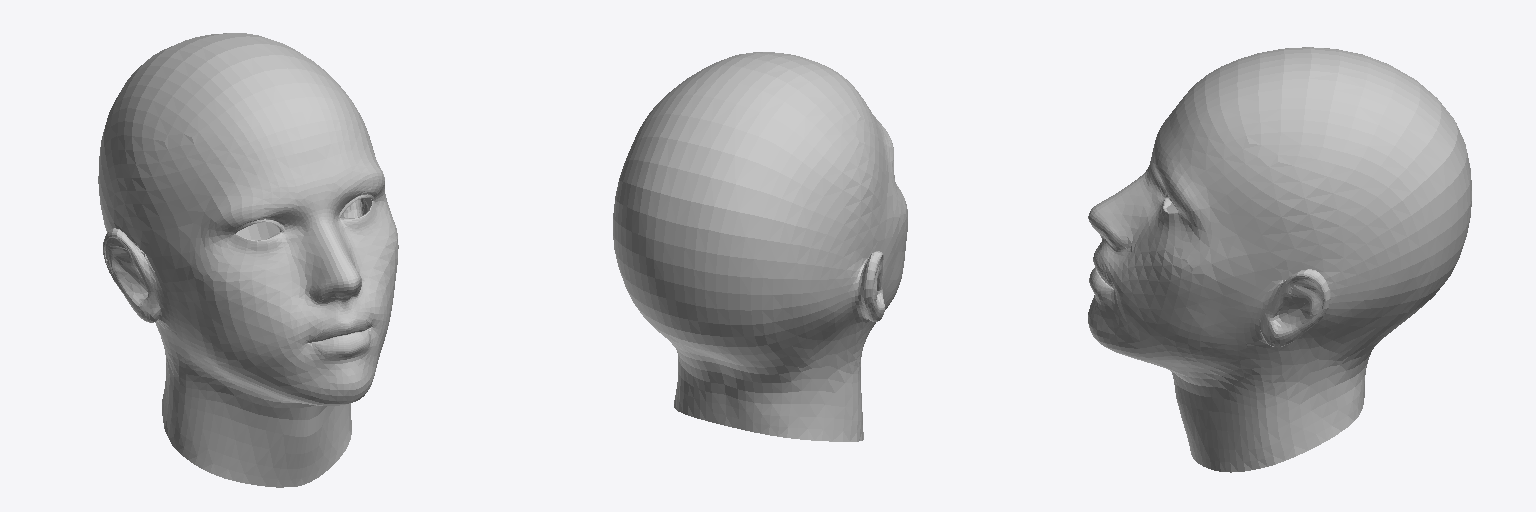
Rendered from @__skarllet_tri_withRGB.obj.
3 views of the same model, side by side, from view 1: azimuth 30°, elevation 25°; view 2: azimuth 150°, elevation 25°; view 3: azimuth 270°, elevation 25° (orthographic).
Size of the model in its own units: 192 by 281 by 248.